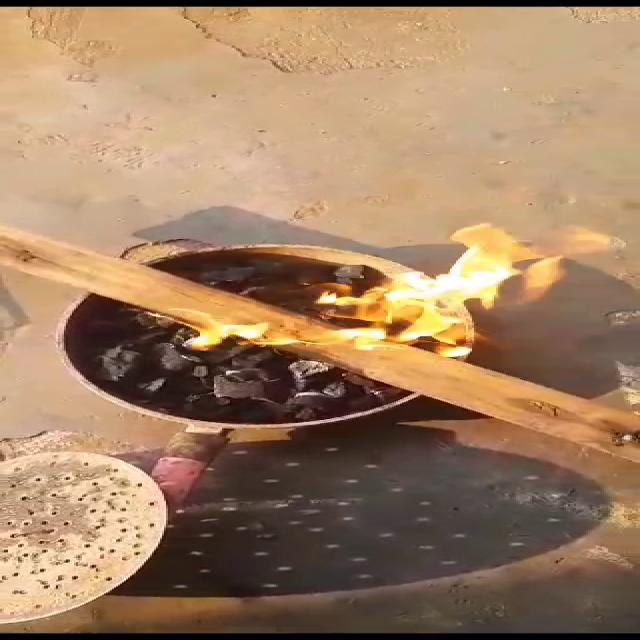Fire: (181, 202, 582, 382)
